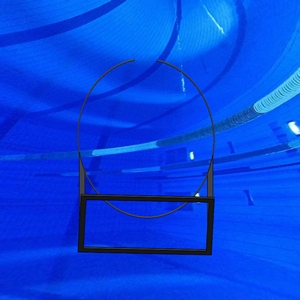circle: (75, 57, 217, 256)
